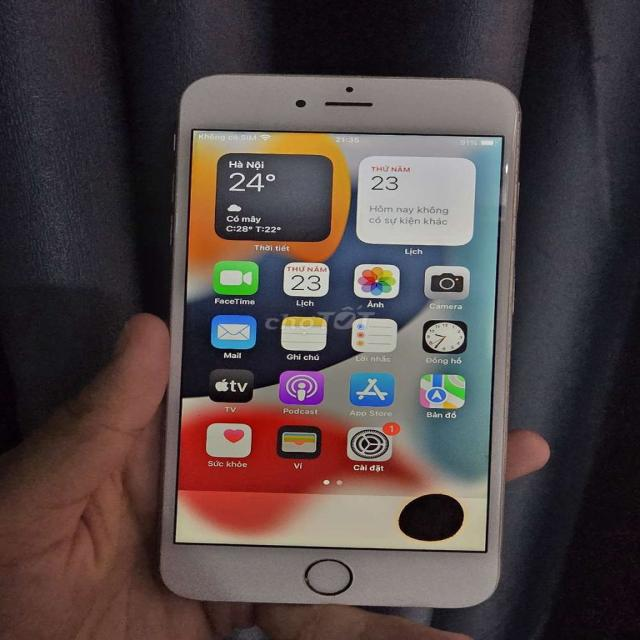gen_6: (160, 75, 520, 607)
screen_defect: (383, 476, 480, 548)
